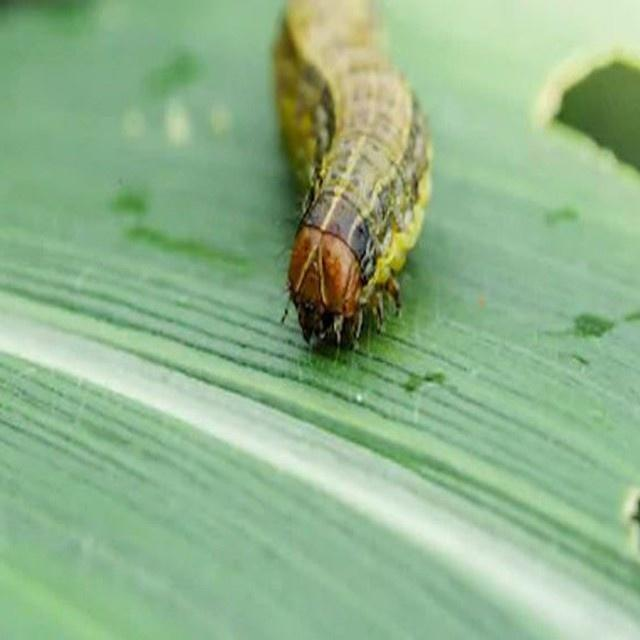gusano_cogollero: (266, 0, 438, 354)
